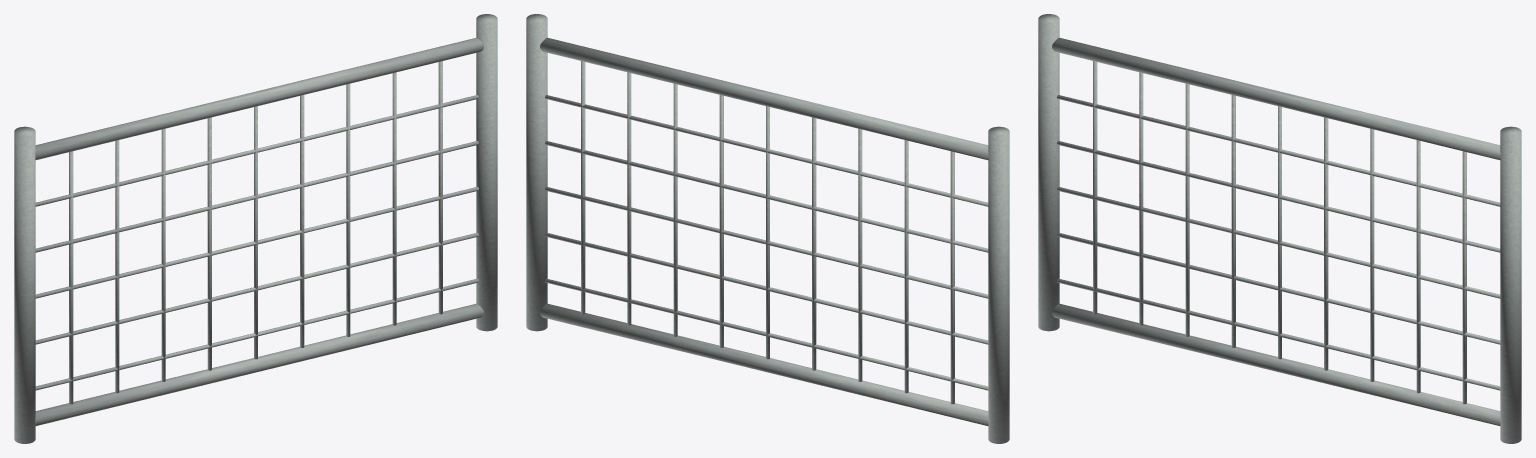
The model's file is fence_section.glb.
The picture shows the model from 3 angles, left to right: view 1: azimuth 30°, elevation 25°; view 2: azimuth 150°, elevation 25°; view 3: azimuth 330°, elevation 25°; orthographic projection.
Parts seen in each view (by area): view 1: fence_section_textured_mesh; view 2: fence_section_textured_mesh; view 3: fence_section_textured_mesh.
Part boxes in pixels (<box>): fence_section_textured_mesh: <box>14,14,497,443</box>; fence_section_textured_mesh: <box>526,14,1009,443</box>; fence_section_textured_mesh: <box>1038,14,1521,443</box>.
Size of the model in its own units: 4.16 by 2.55 by 0.16.
1 material, 1 textured.
